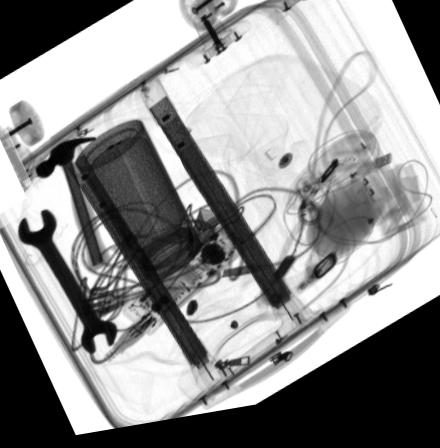Hammer: (33, 139, 110, 274)
Wrench: (17, 211, 119, 358)
